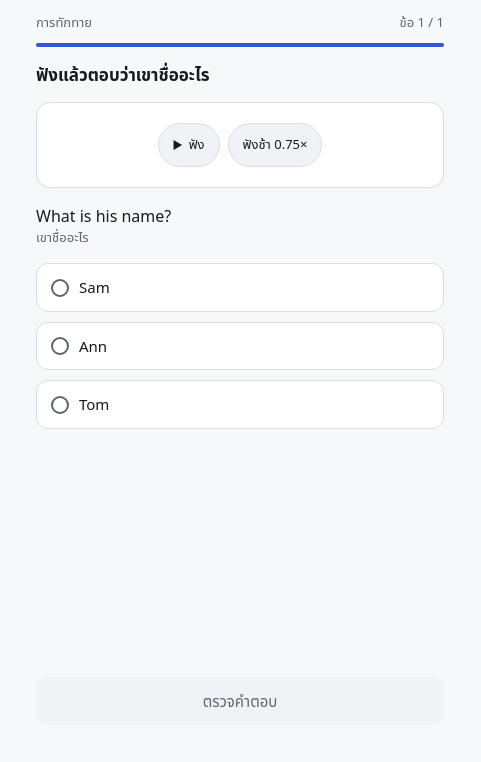
LessonPlayer › completes straight away when nothing was wrong: completeLesson once, no retry
The width and height of the screenshot is (481, 762).
Click the radio button labelled "Sam": (94, 287) [36,263,444,312]
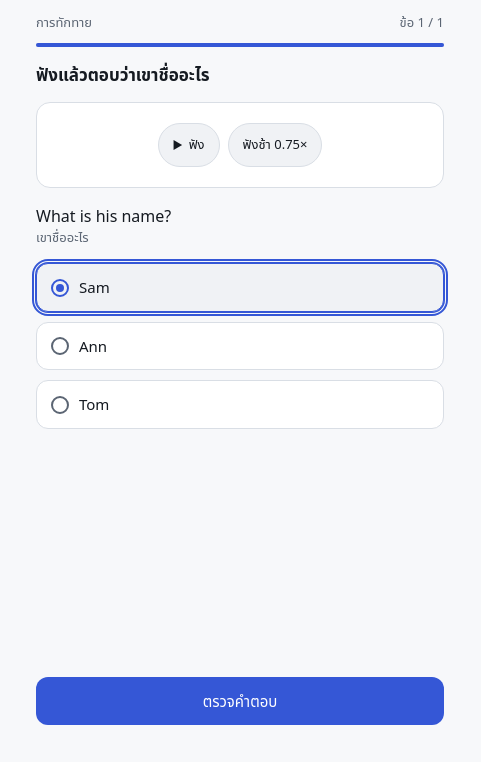
Click the button "ตรวจคำตอบ": (240, 701) [36,676,444,725]
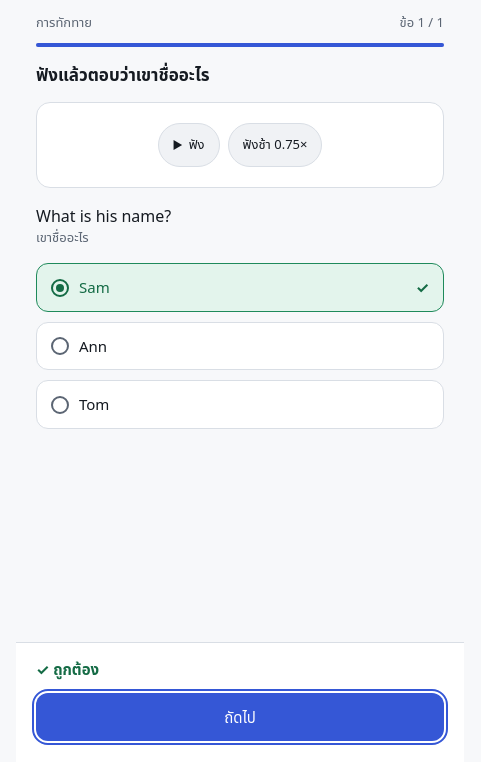
Click the button "ถัดไป": (240, 717) [36,692,444,741]
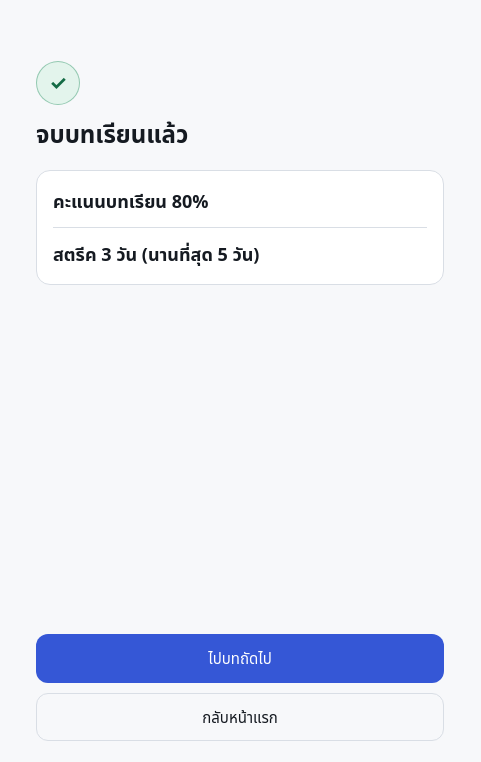
Check: the heading "จบบทเรียนแล้ว" is shown, box [36,117,188,150]
